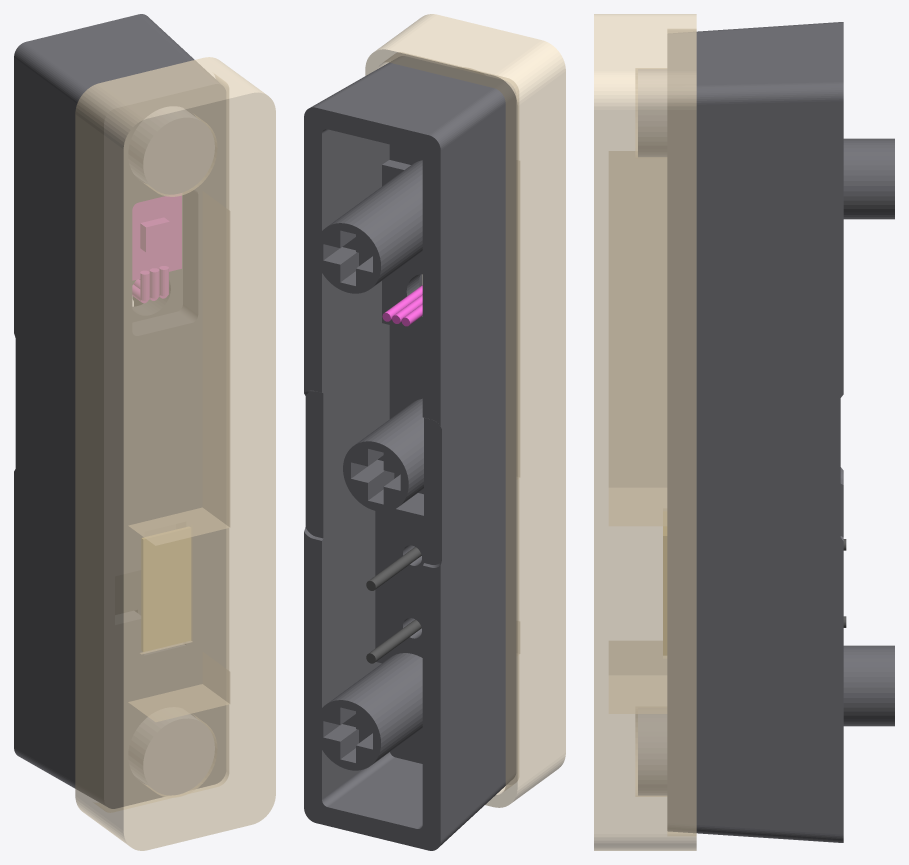
File: key_assembled.glb
3 views of the same model, side by side, from view 1: azimuth 30°, elevation 25°; view 2: azimuth 150°, elevation 25°; view 3: azimuth 270°, elevation 25° (orthographic). The views are drawn at different scales.
Visible parts, largest first — view 1: 5_topper, 4_key, 5a_magnets_topper, 5b_short_plate, 4a_rgb_led_strip_piece, 4c_pogo_connector; view 2: 4_key, 5_topper, 4c_pogo_connector, 4a_rgb_led_strip_piece; view 3: 4_key, 5_topper, 5a_magnets_topper.
Boxes of the visible parts, <box> form: 5_topper: <box>75,57,275,850</box>; 4_key: <box>14,14,225,808</box>; 5a_magnets_topper: <box>129,107,214,795</box>; 5b_short_plate: <box>141,537,190,651</box>; 4a_rgb_led_strip_piece: <box>132,195,181,302</box>; 4c_pogo_connector: <box>115,570,140,614</box>; 4_key: <box>304,56,515,850</box>; 5_topper: <box>365,14,565,807</box>; 4c_pogo_connector: <box>366,547,421,663</box>; 4a_rgb_led_strip_piece: <box>382,285,422,326</box>; 4_key: <box>667,22,894,842</box>; 5_topper: <box>594,14,696,850</box>; 5a_magnets_topper: <box>638,69,666,795</box>.
Bounding box in the file's own units: 12.73 × 58.45 × 20.5.
